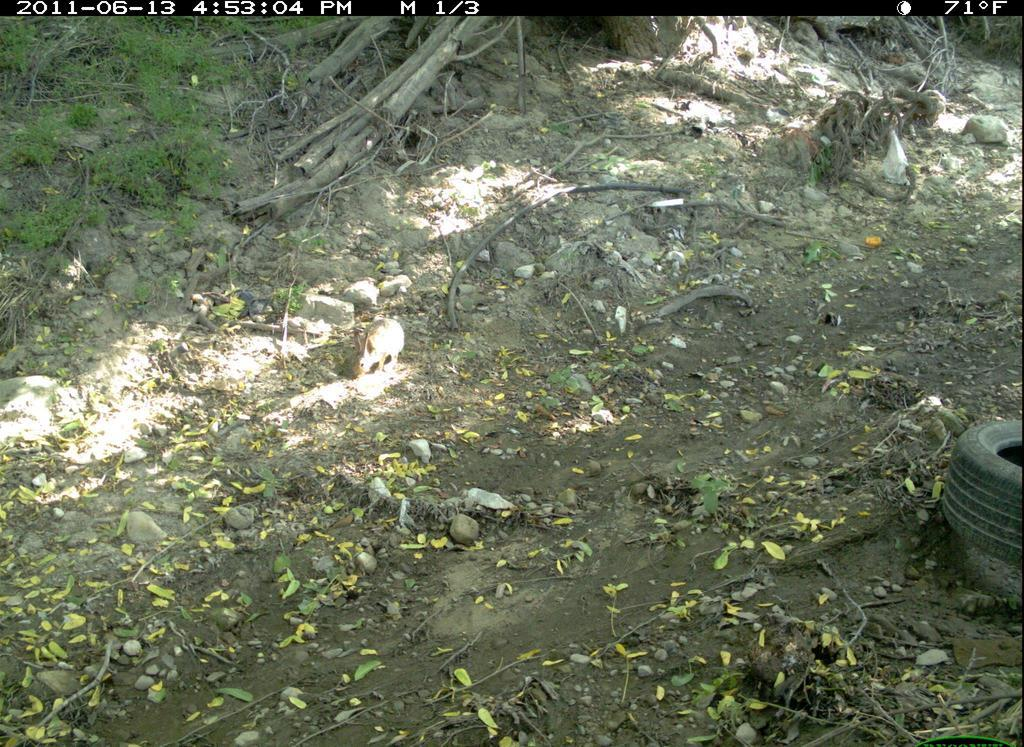rabbit: (345, 306, 413, 385)
